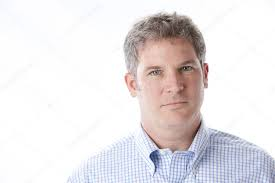white_male: (130, 46, 202, 120)
